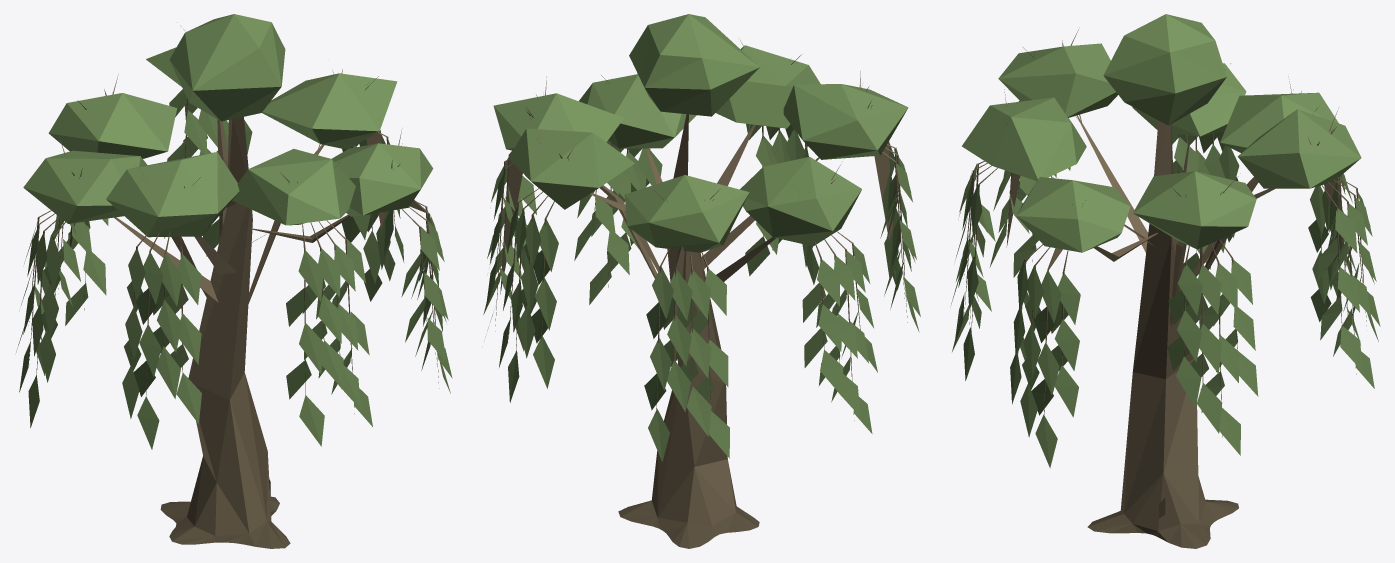
File: willow_summer.glb
3 renders of one model, left to right at view 1: azimuth 30°, elevation 25°; view 2: azimuth 150°, elevation 25°; view 3: azimuth 270°, elevation 25°, orthographic.
Parts seen in each view (by area): view 1: leaves, branches; view 2: leaves, branches; view 3: leaves, branches.
Boxes of the visible parts, x1,y1,x2,y2 form: leaves: (16, 14, 452, 449); branches: (28, 22, 439, 548); leaves: (483, 14, 920, 461); branches: (495, 39, 907, 548); leaves: (951, 14, 1380, 468); branches: (963, 27, 1366, 548).
Bounding box in the file's own units: 3.6 × 4.6 × 3.54.
